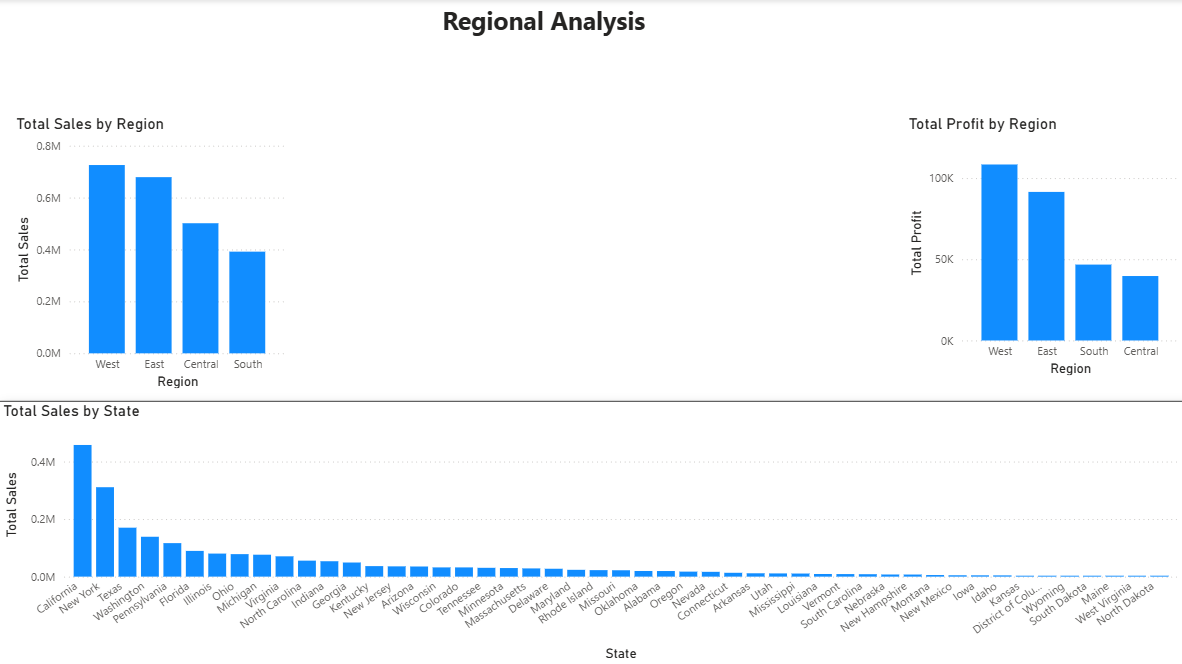

What the dashboard file says about the page in this screenshot:
{"tool":"powerbi","page":{"name":"Page 3","canvas":[1280,720],"ordinal":2},"visuals":[{"type":"textbox","box":[474.4,0,479.3,48.6],"z":0},{"type":"clusteredColumnChart","fields":{"Category":["SampleSuperstore.Region"],"Y":["SampleSuperstore.Total Sales"]},"box":[15.1,124.7,300.5,300.5],"z":1000},{"type":"clusteredColumnChart","fields":{"Category":["SampleSuperstore.Region"],"Y":["SampleSuperstore.Total Profit"]},"box":[978,124.7,301.2,286.6],"z":2000},{"type":"clusteredColumnChart","fields":{"Category":["SampleSuperstore.State"],"Y":["SampleSuperstore.Total Sales"]},"box":[0,434,1279.2,286.6],"z":3000}]}

Visuals, with their boxes in screenshot pixels (x1, y1, x2, y2), scaled from the page's 1280x720 canvas onto the 1182x664 screenshot:
textbox: crop(438, 0, 881, 45)
clusteredColumnChart - SampleSuperstore.Region x SampleSuperstore.Total Sales: crop(14, 115, 291, 392)
clusteredColumnChart - SampleSuperstore.Region x SampleSuperstore.Total Profit: crop(903, 115, 1181, 379)
clusteredColumnChart - SampleSuperstore.State x SampleSuperstore.Total Sales: crop(0, 400, 1181, 663)
